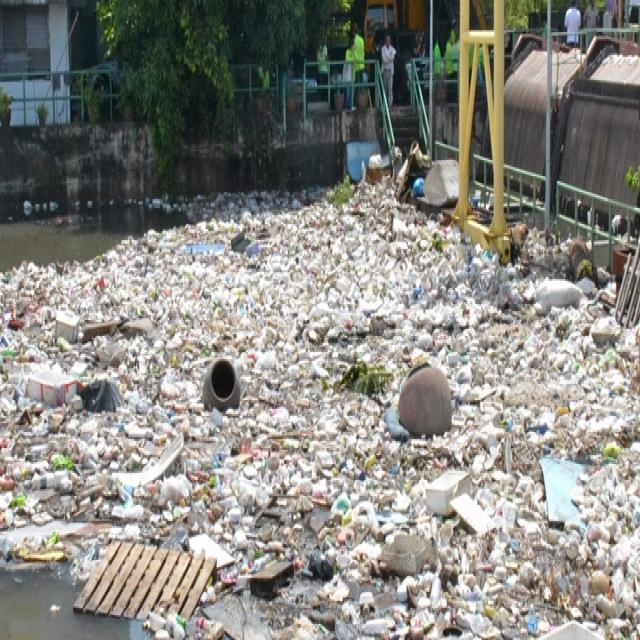-: (0, 243, 576, 640), (563, 350, 640, 640), (156, 192, 368, 267)
